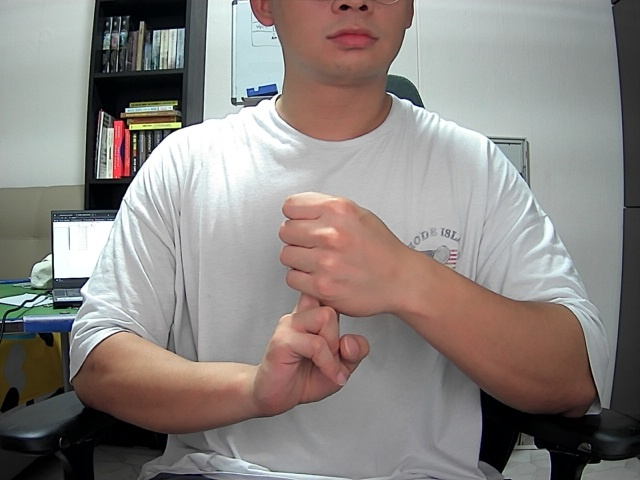Rat: (216, 176, 440, 415)
